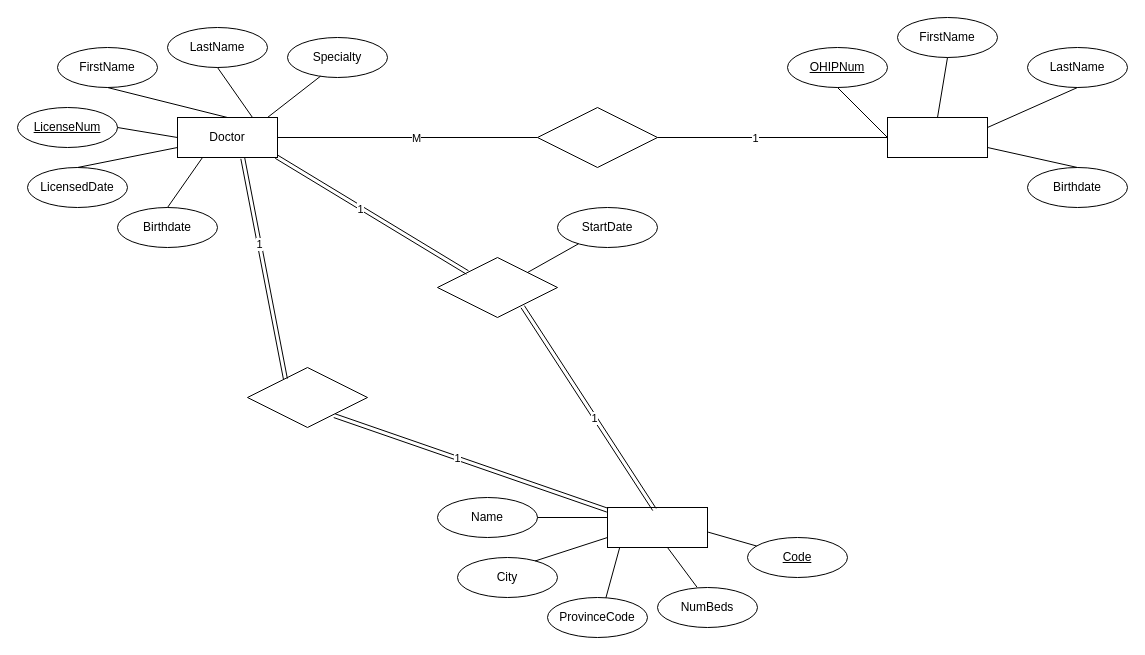
Some shapes in this 1145 by 655 pixel diagram are drawn without their labels. Each missing label, with the box of its shape:
assigned: (536, 106, 658, 168)
head: (436, 256, 558, 318)
Hospital: (606, 506, 708, 548)
Patient: (886, 116, 988, 158)
works: (246, 366, 368, 428)
